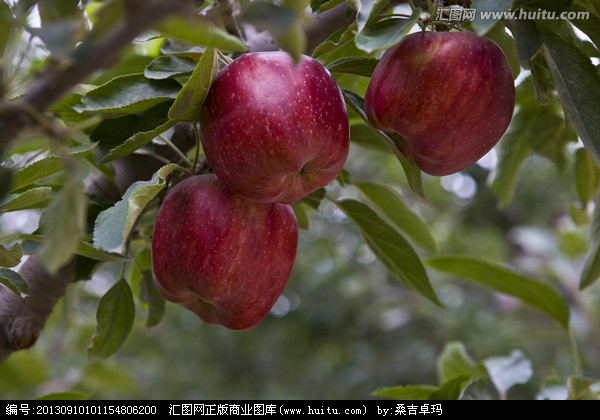apple: (152, 175, 298, 328), (203, 53, 351, 200), (365, 30, 514, 174)
